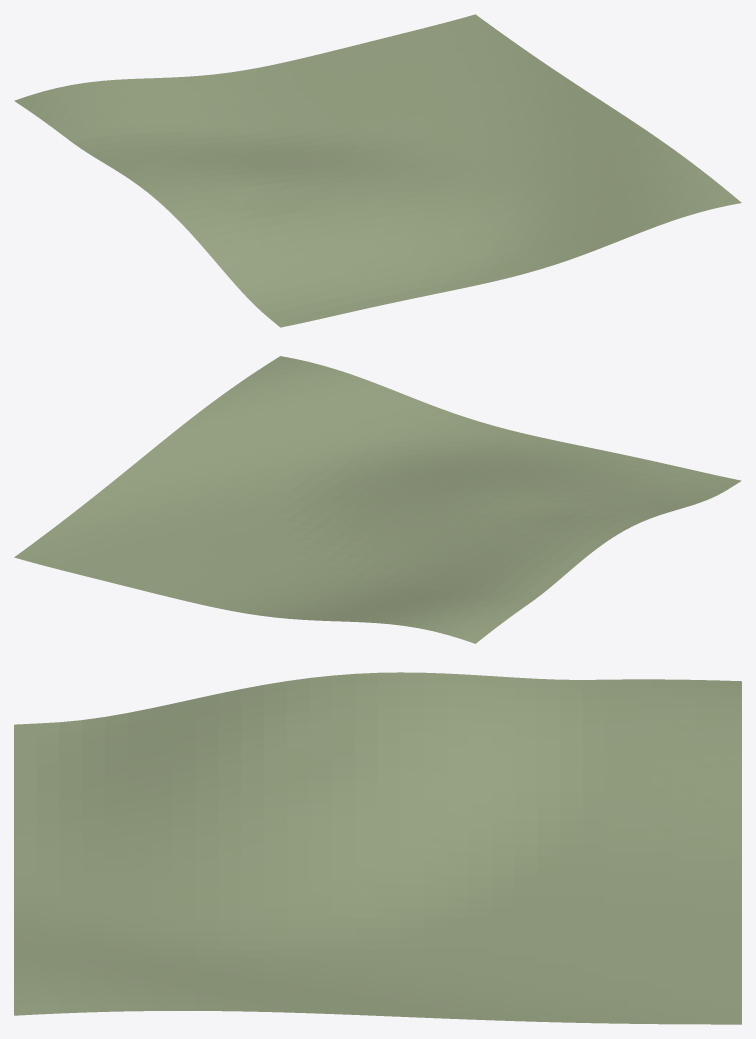
File: desert-8-8.glb
The picture shows the model from 3 angles, top to bottom: view 1: azimuth 30°, elevation 25°; view 2: azimuth 150°, elevation 25°; view 3: azimuth 270°, elevation 25°; orthographic projection. The views are drawn at different scales.
Parts seen in each view (by area): view 1: desert-8-8; view 2: desert-8-8; view 3: desert-8-8.
Boxes of the visible parts, bbox=[...] form: desert-8-8: bbox=[14, 14, 741, 327]; desert-8-8: bbox=[14, 356, 741, 643]; desert-8-8: bbox=[14, 672, 741, 1024].
Size of the model in its own units: 512 by 46.98 by 512.
